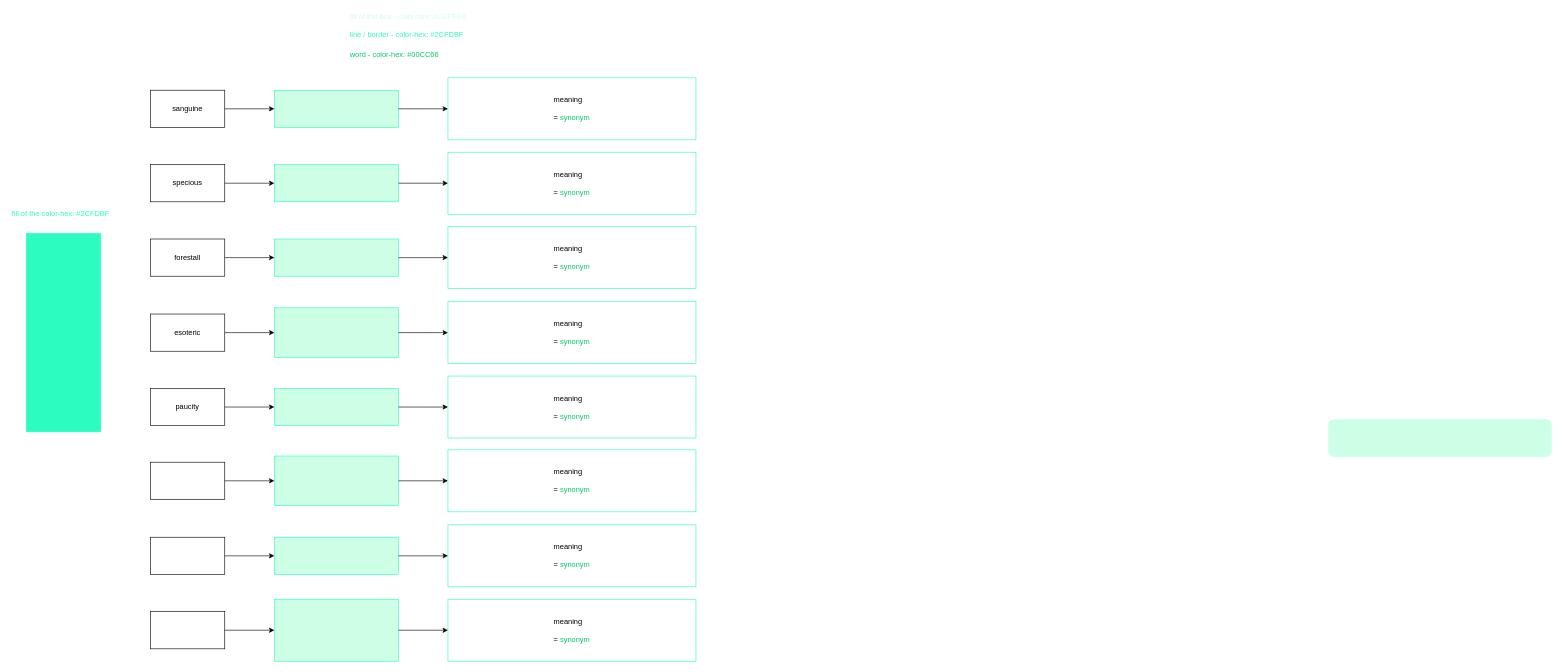
The diagram is 1562 pixels wide and 672 high, and some of its shapes have lost their labels. The shapes that lost their labels are listed below. From the top down, each one's centre as x and y in pixels, then its label:
At pixel 63 332: "p.01 sanguine specious forestall esoteric paucity".
At pixel 1440 438: "log transformation".
